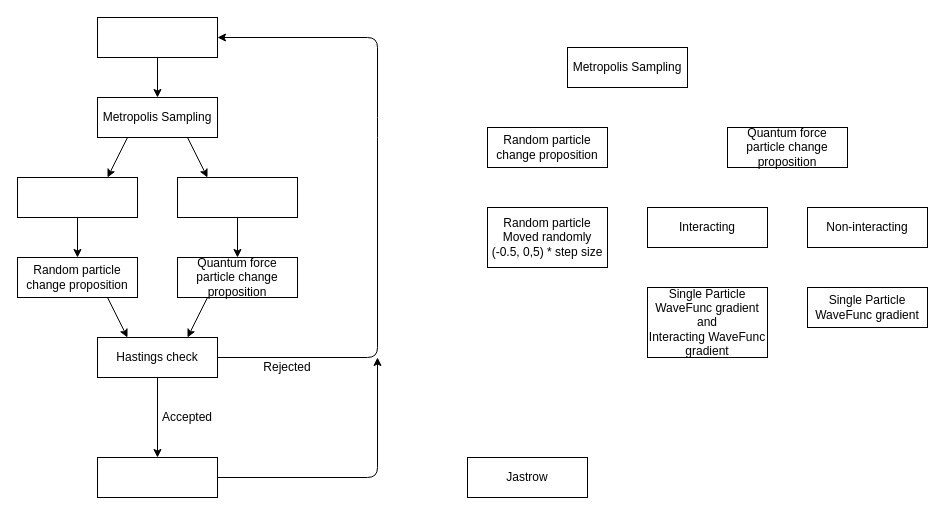
This 945x515 diagram has some shape labels left out. Here are the shapes that lost their labels. From the top down, the centre of each, then its label:
At [157,37]: "MonteCarlo cycling".
At [77,197]: "BruteForce".
At [237,197]: "Importance Sampling".
At [157,477]: "Set new system state".
